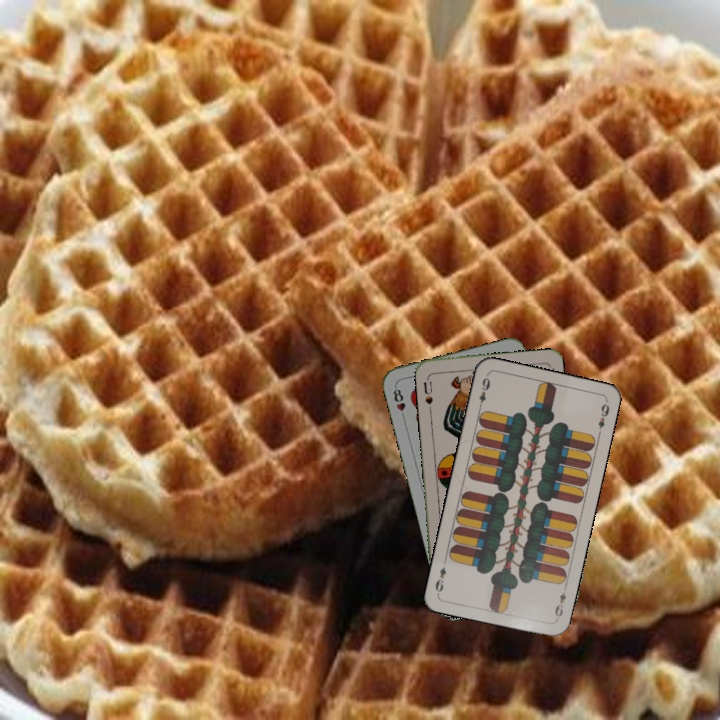E9: (475, 371, 493, 412), (551, 582, 569, 622)
H8: (389, 382, 408, 422)
SU: (420, 373, 435, 407)
